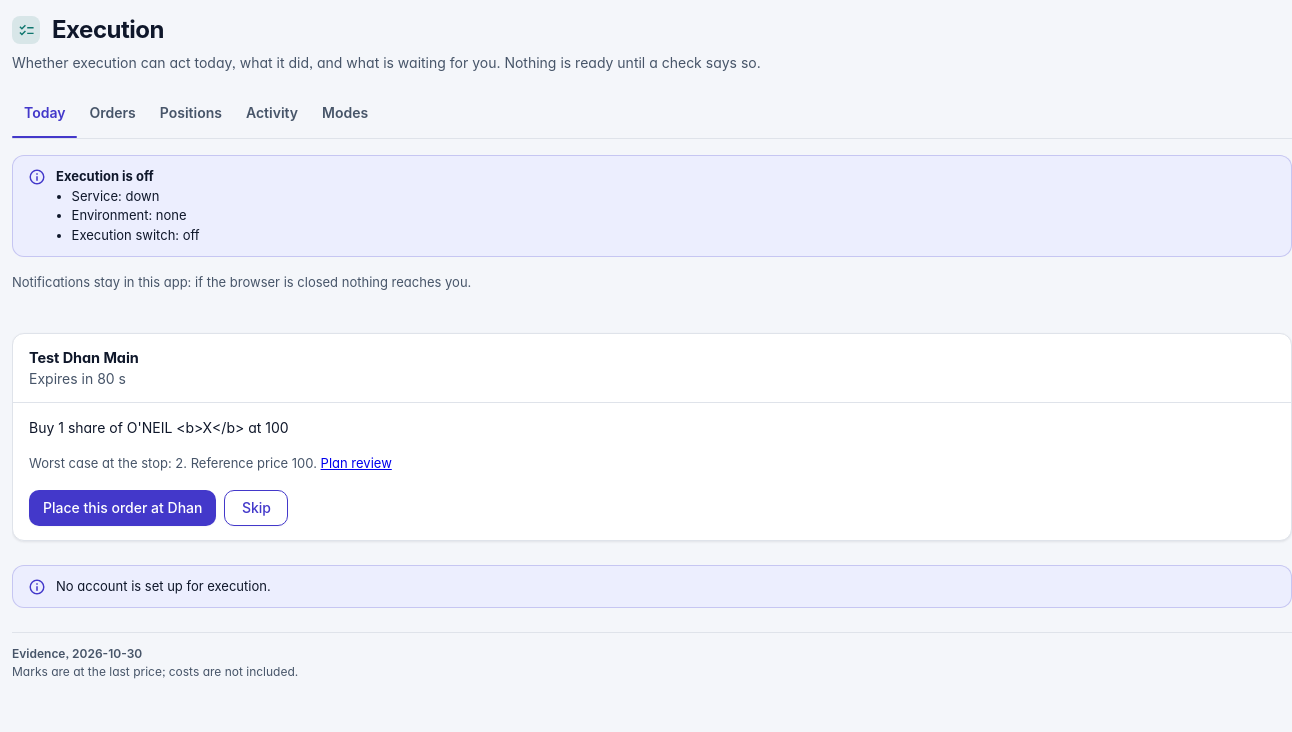
Confirm ticket card › sends one request with the hash and the key even on a double click, then waits for the broker
Expected: the text "Buy 1 share of O'NEIL <b>X</b> at 100" is shown, [29, 419, 289, 436]
Double-click the button "Place this order at Dhan" at (123,508), box [29, 490, 216, 526]
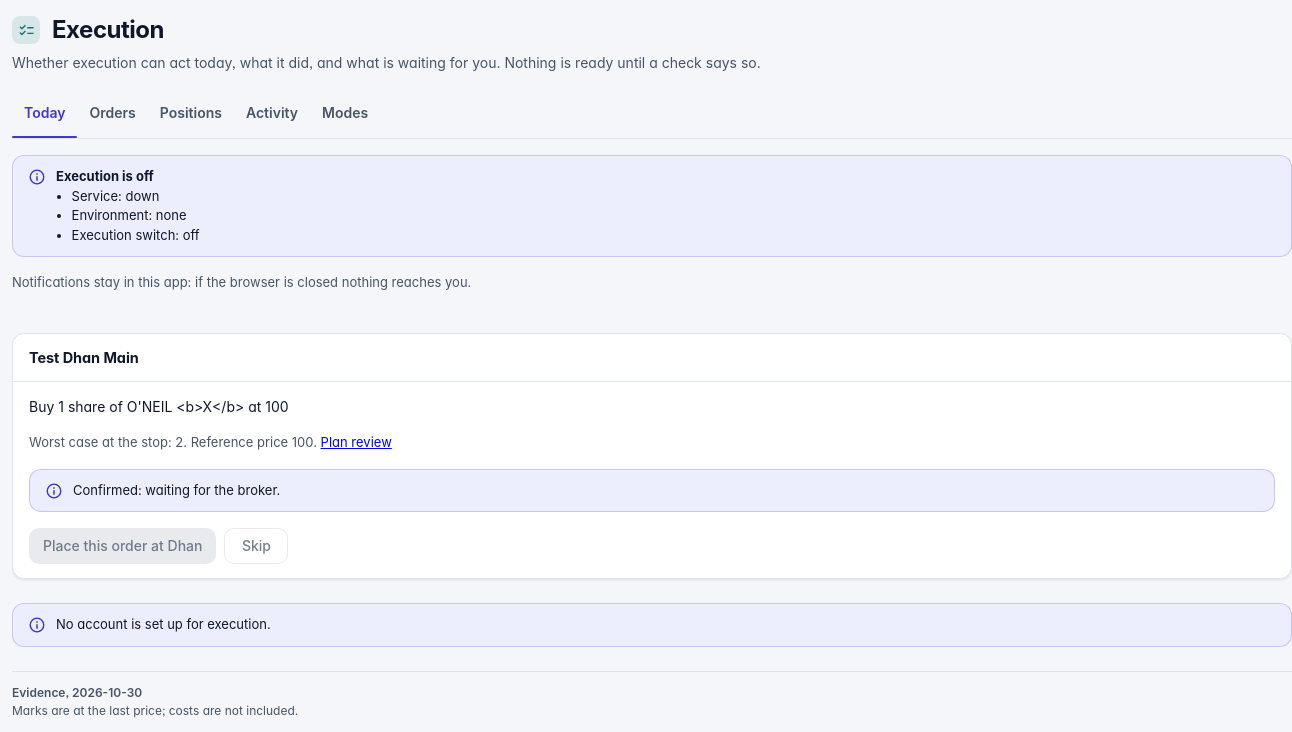
Result: the text "Confirmed: waiting for the broker." is shown at [73, 481, 280, 500]
Result: the button "Place this order at Dhan" is disabled at [29, 528, 216, 564]
